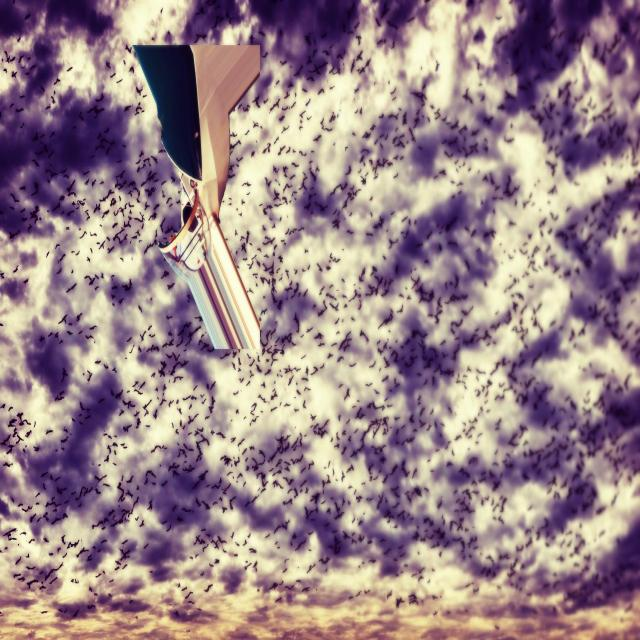airplane: (131, 42, 262, 356)
